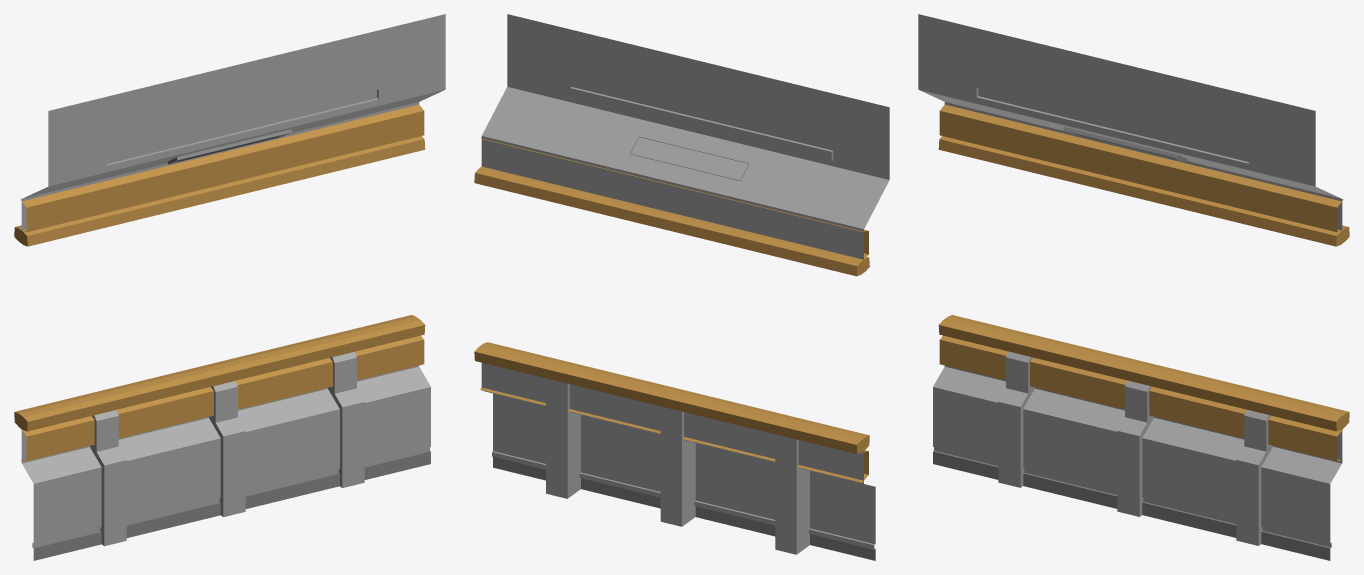
The model's file is MiddleGlassWall.fbx.
3 views of the same model, side by side, from view 1: azimuth 30°, elevation 25°; view 2: azimuth 150°, elevation 25°; view 3: azimuth 330°, elevation 25° (orthographic). The views are drawn at different scales.
Visible parts, largest first — view 1: Wall_Empty, Cube.001; view 2: Wall_Empty, Cube.001; view 3: Wall_Empty, Cube.001.
Boxes of the visible parts, x1=… form: Wall_Empty: x1=20, y1=14, x2=445, y2=560; Cube.001: x1=14, y1=136, x2=425, y2=431; Wall_Empty: x1=480, y1=14, x2=889, y2=560; Cube.001: x1=474, y1=166, x2=869, y2=454; Wall_Empty: x1=918, y1=14, x2=1343, y2=560; Cube.001: x1=938, y1=136, x2=1349, y2=431.
Bounding box in the file's own units: 400 × 443 × 59.51.
